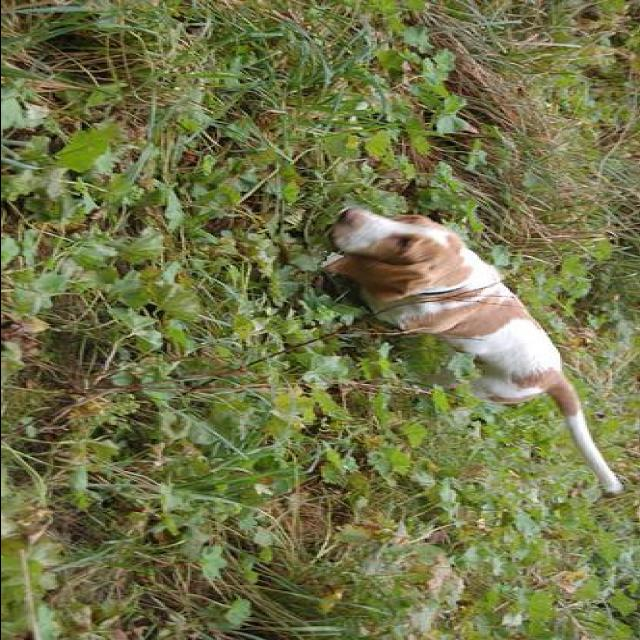basset: (318, 210, 626, 498)
